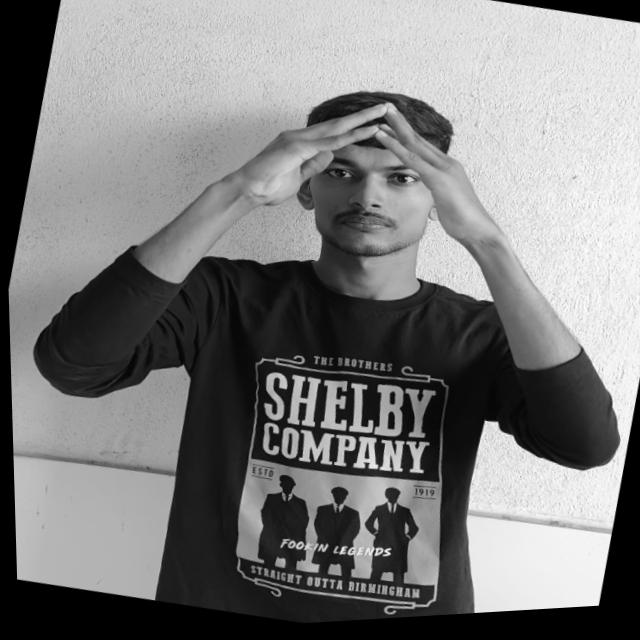Home: (199, 68, 510, 285)
